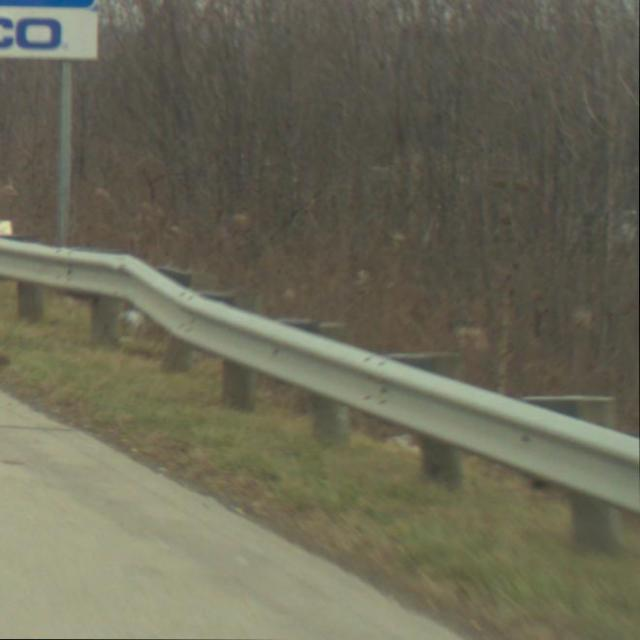Guard rail: (0, 233, 640, 562)
